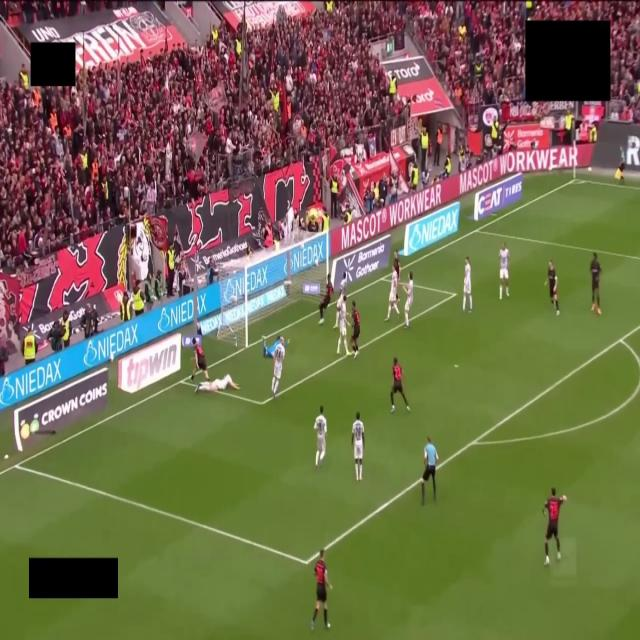player: (543, 488, 566, 565), (311, 550, 331, 630), (390, 358, 409, 412), (352, 412, 364, 481), (191, 338, 209, 381), (195, 375, 239, 392), (314, 406, 326, 467), (334, 272, 347, 328), (272, 337, 284, 397), (386, 267, 399, 320), (319, 276, 333, 324), (590, 253, 601, 314), (337, 296, 348, 354), (548, 261, 559, 315), (499, 242, 509, 299), (351, 301, 360, 358), (404, 272, 413, 328), (463, 257, 472, 311), (263, 336, 282, 359), (393, 251, 400, 281)
referee: (421, 437, 438, 505)
